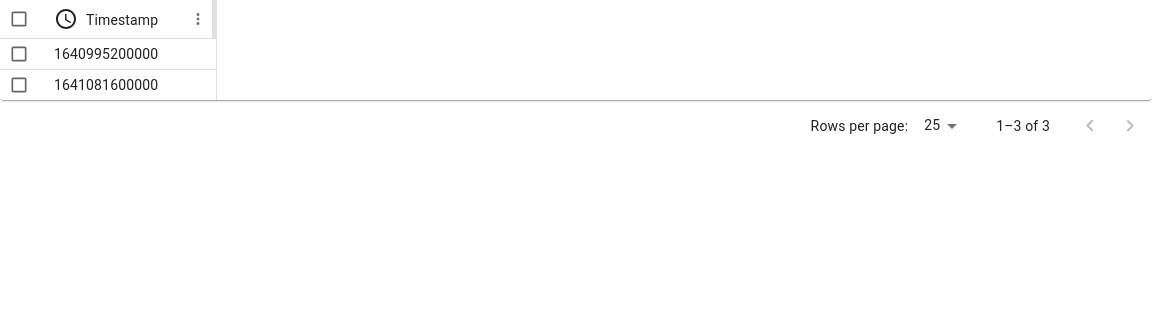
Test: Table › allows the user to have 100 rows per page when max shots is greater than 50
Click the dropdown named "Rows per page:".
click(932, 125)  # box [924, 117, 940, 133]
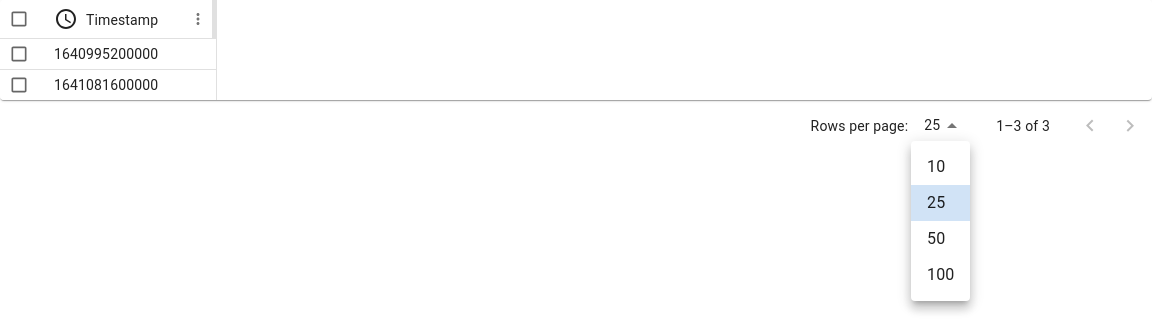
Expected: the option "100" is shown, [927, 265, 954, 284]
